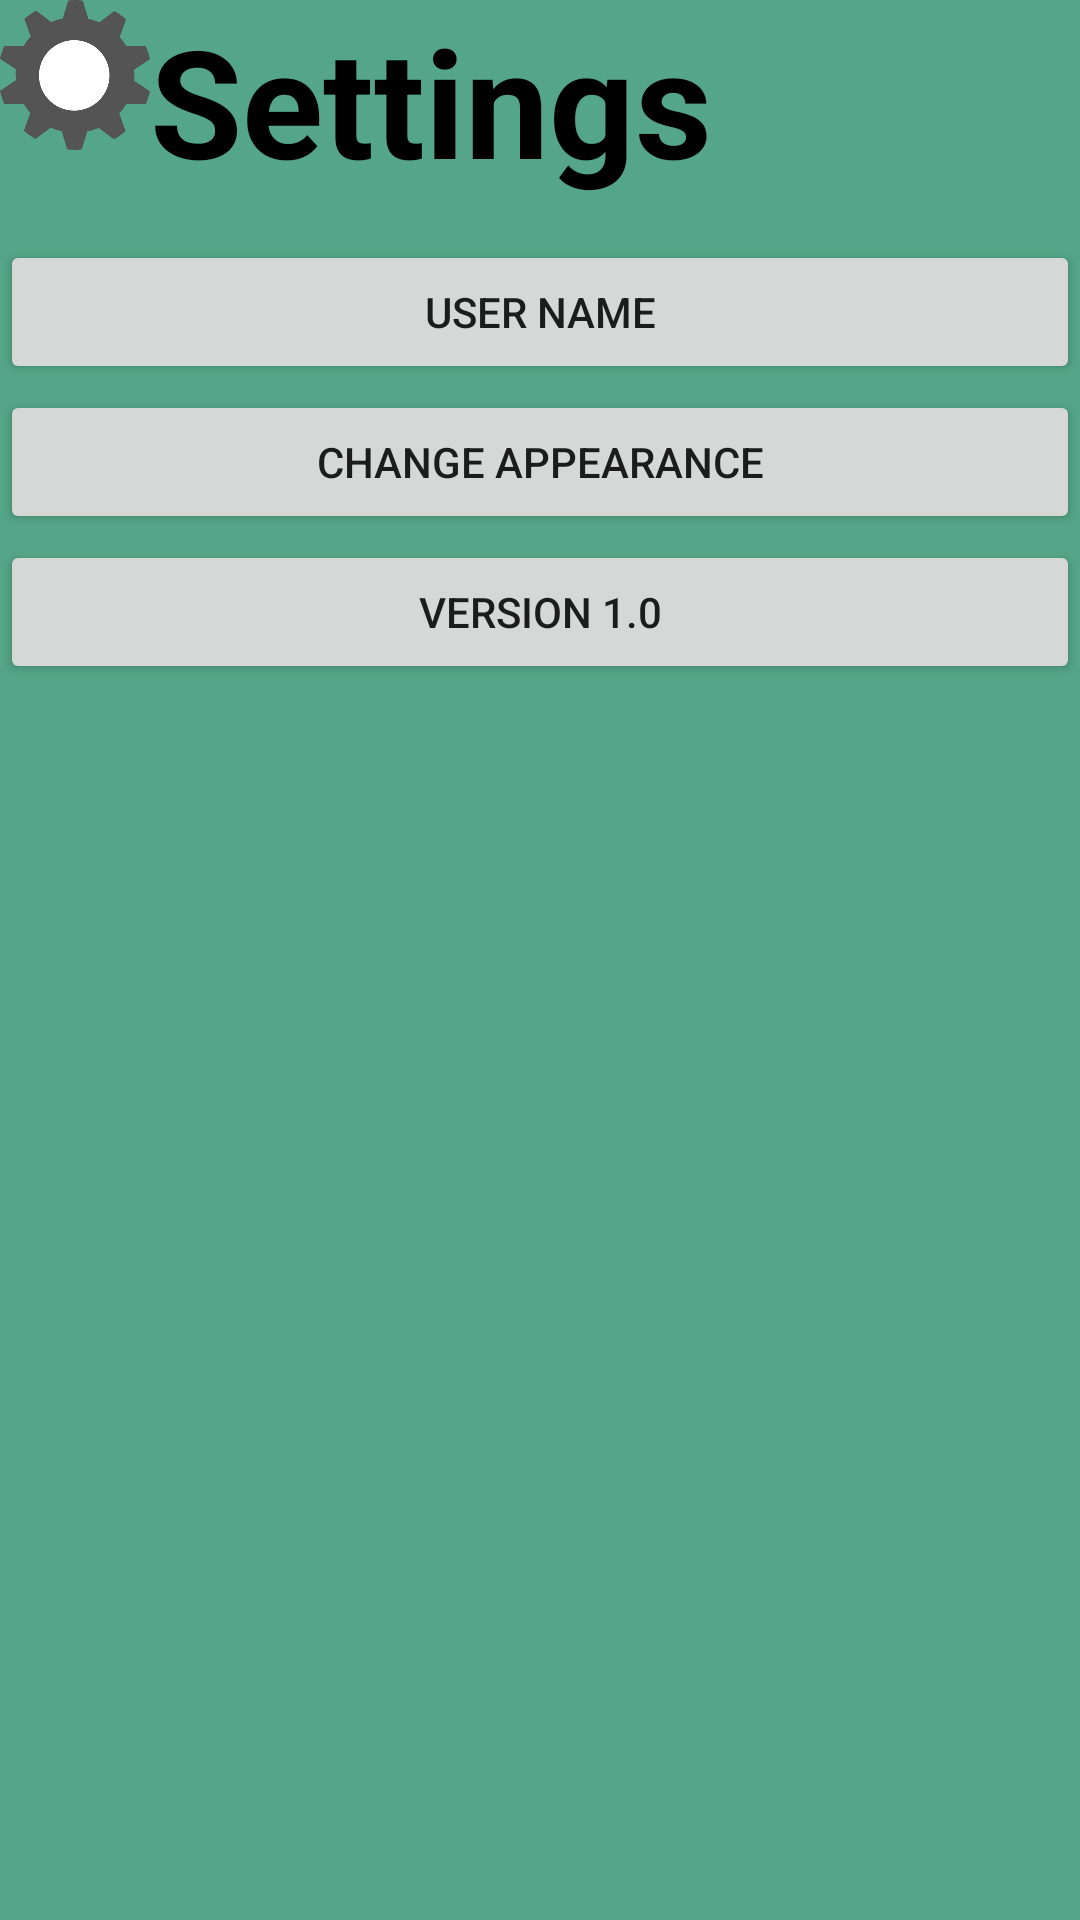

Icon click points for this 1080 × 1920 phone screenshot, format point (x, y):
gear: point (75, 75)
